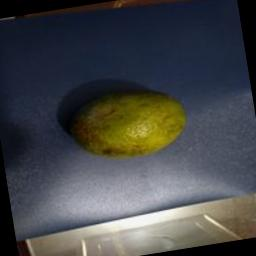Orange Overripe: (50, 65, 219, 187)
